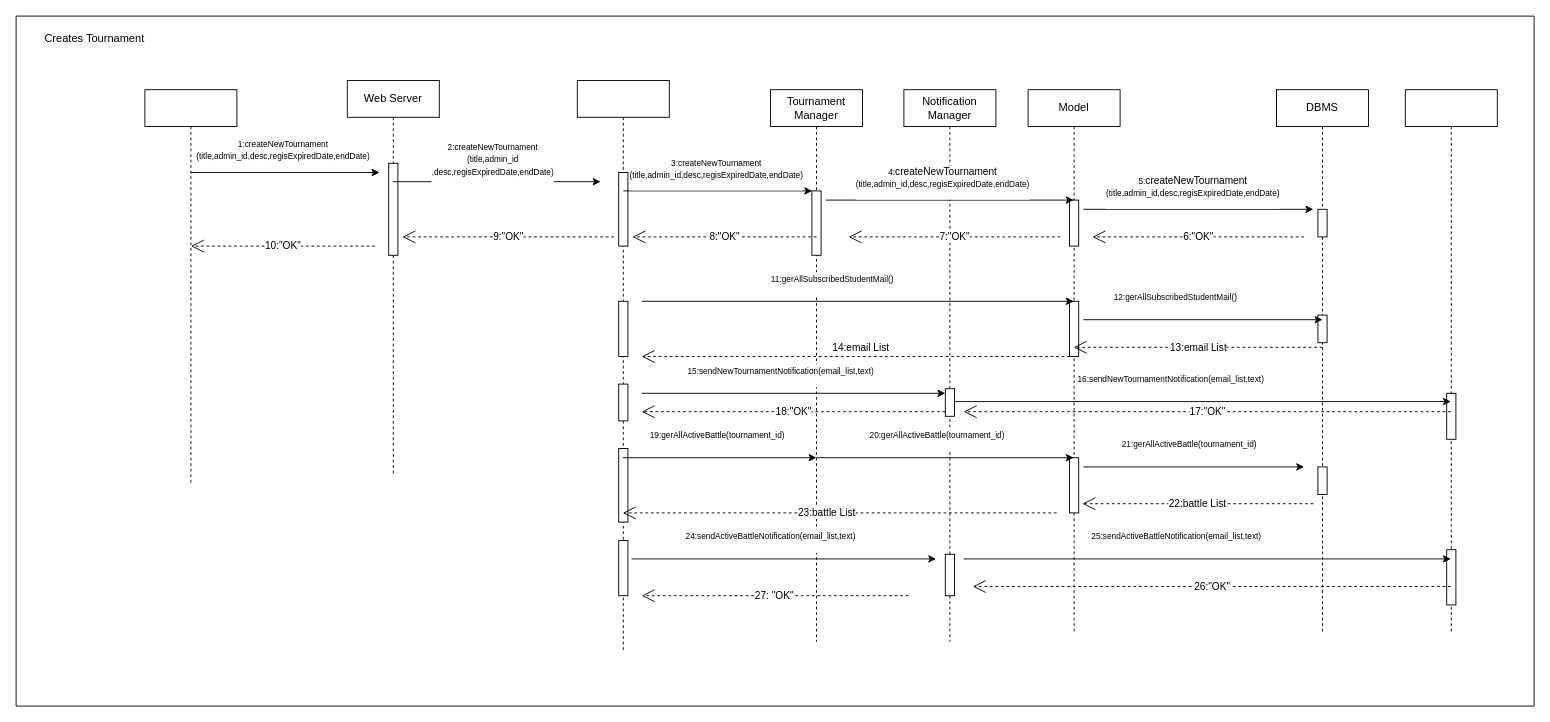
Some shapes in this 1550 by 722 pixel diagram are drawn without their labels. Here are the shapes that lost their labels. From the top down, the box of each, then its label:
(144, 89, 237, 485): CKB Web App
(576, 80, 669, 651): Dispatcher
(1404, 89, 1497, 632): Email Provider
